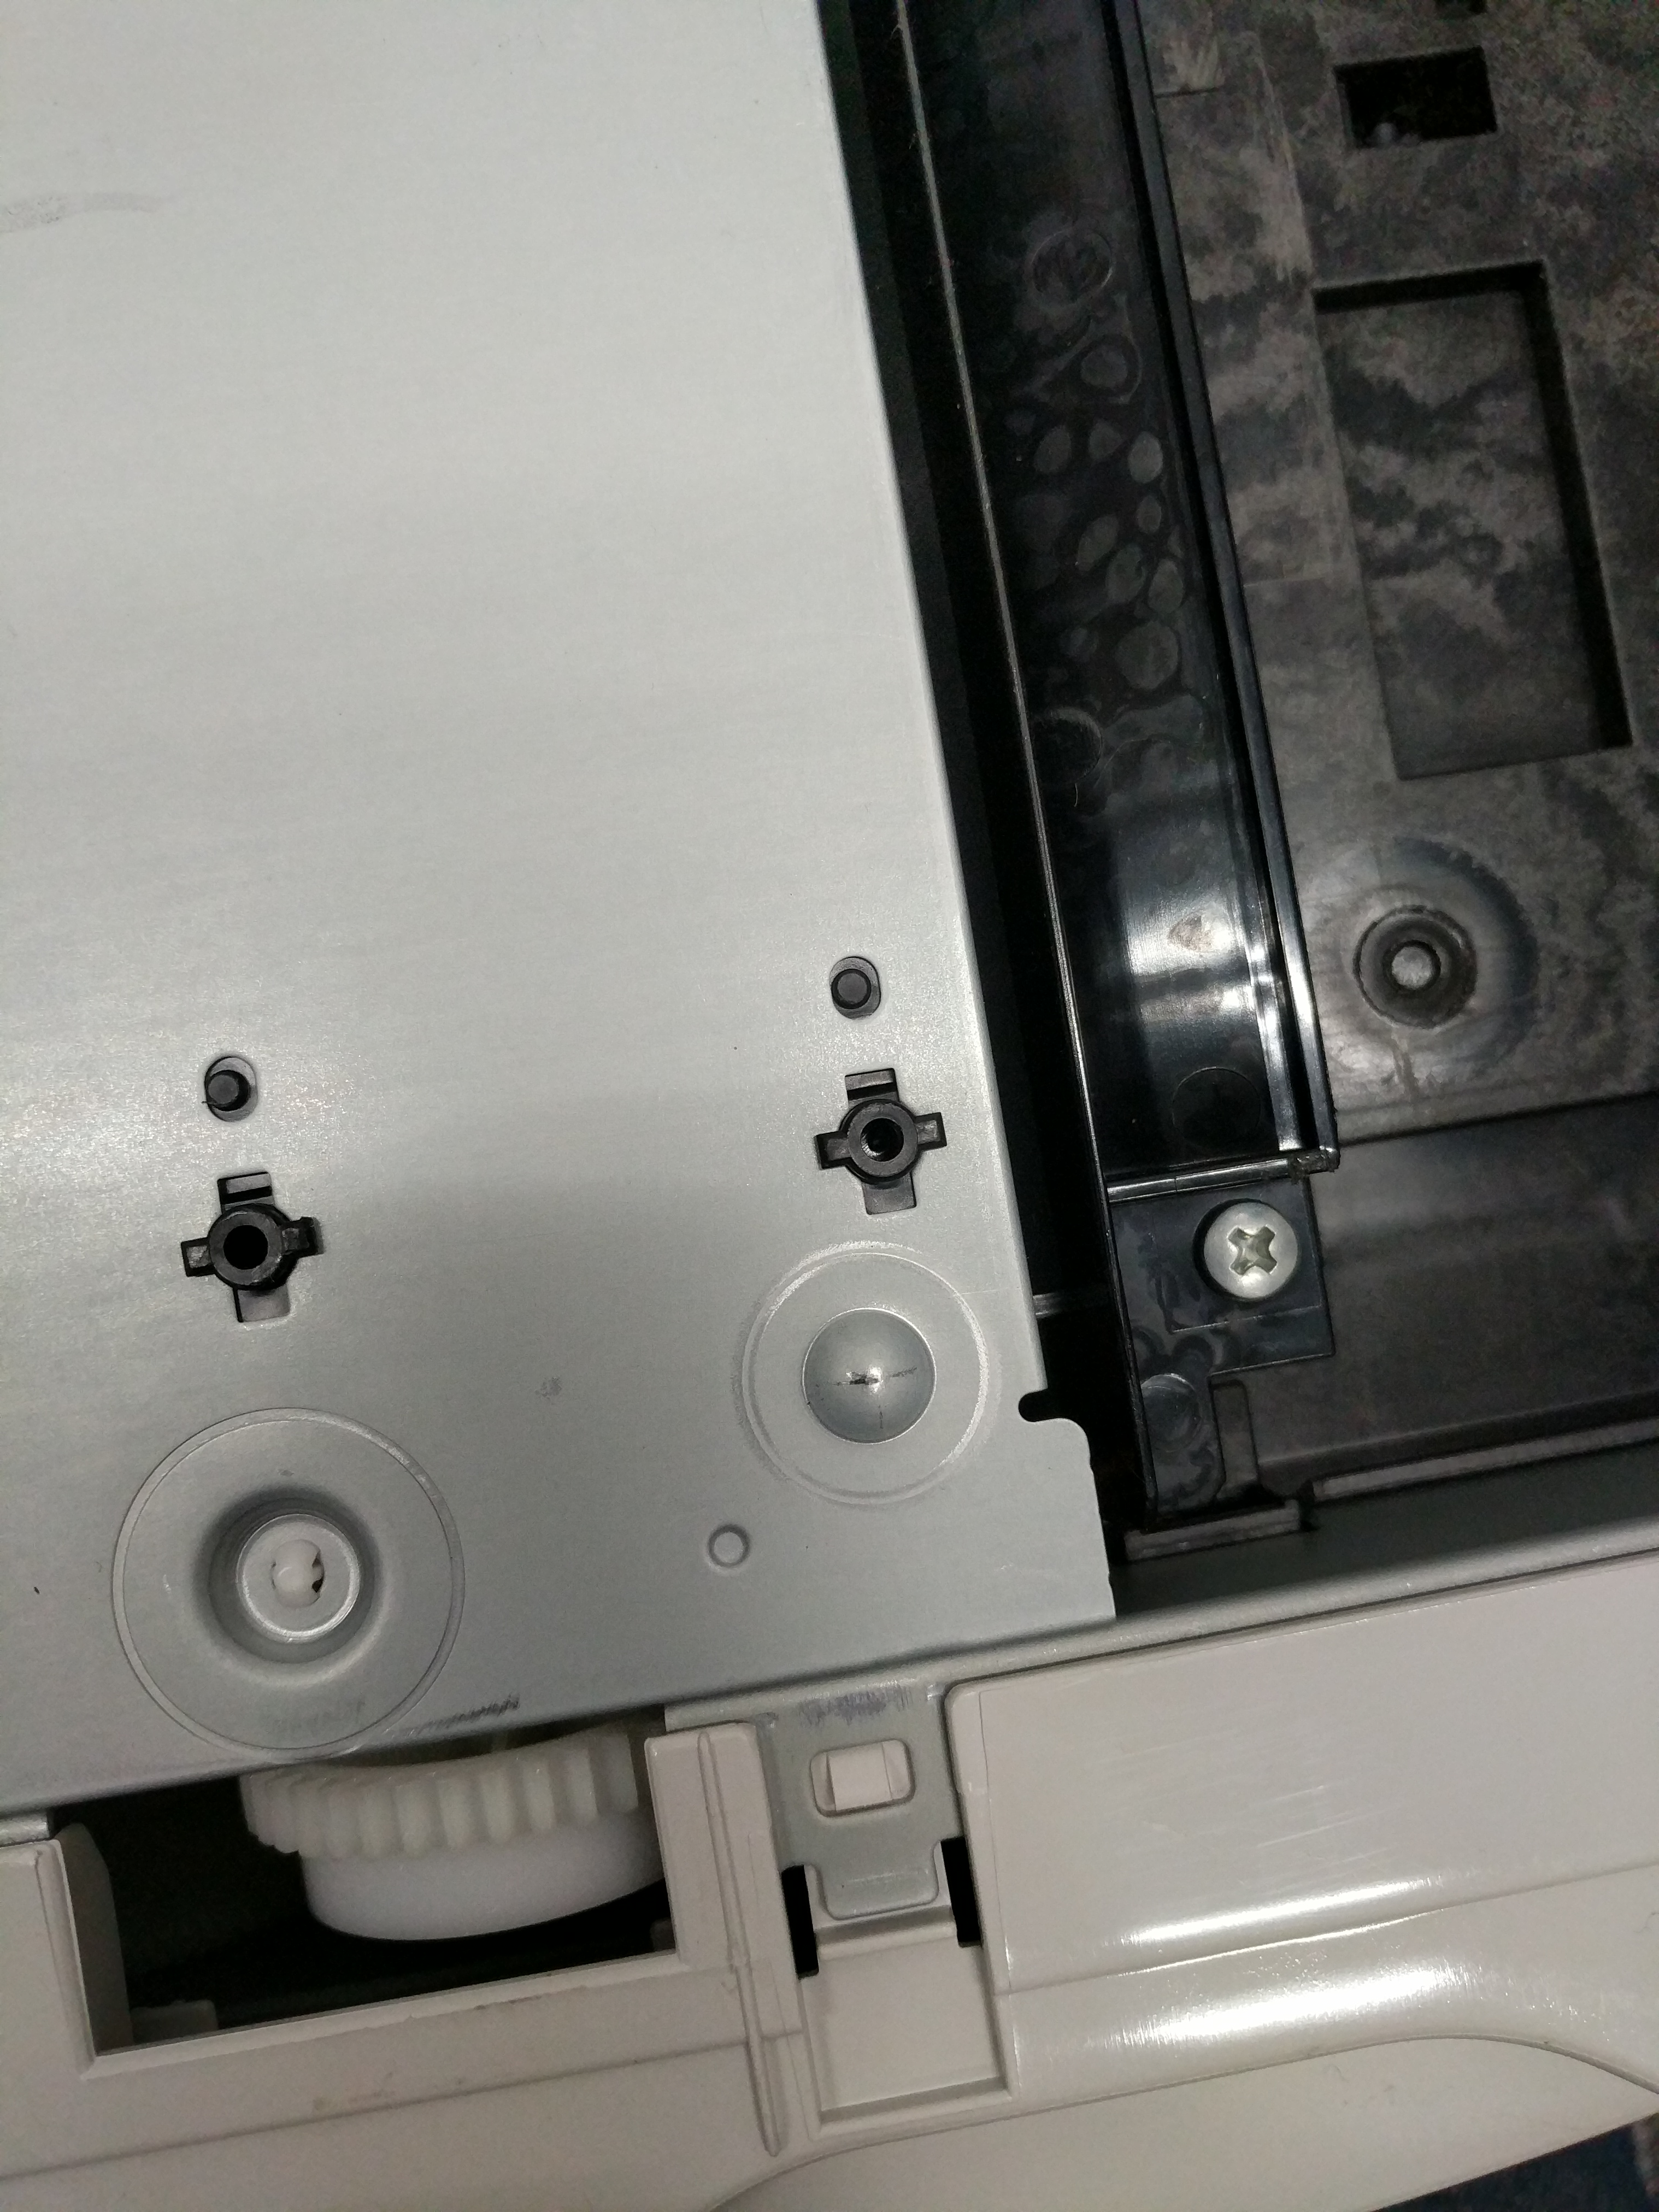cross_recessed_screw: (1194, 1186, 1321, 1310)
